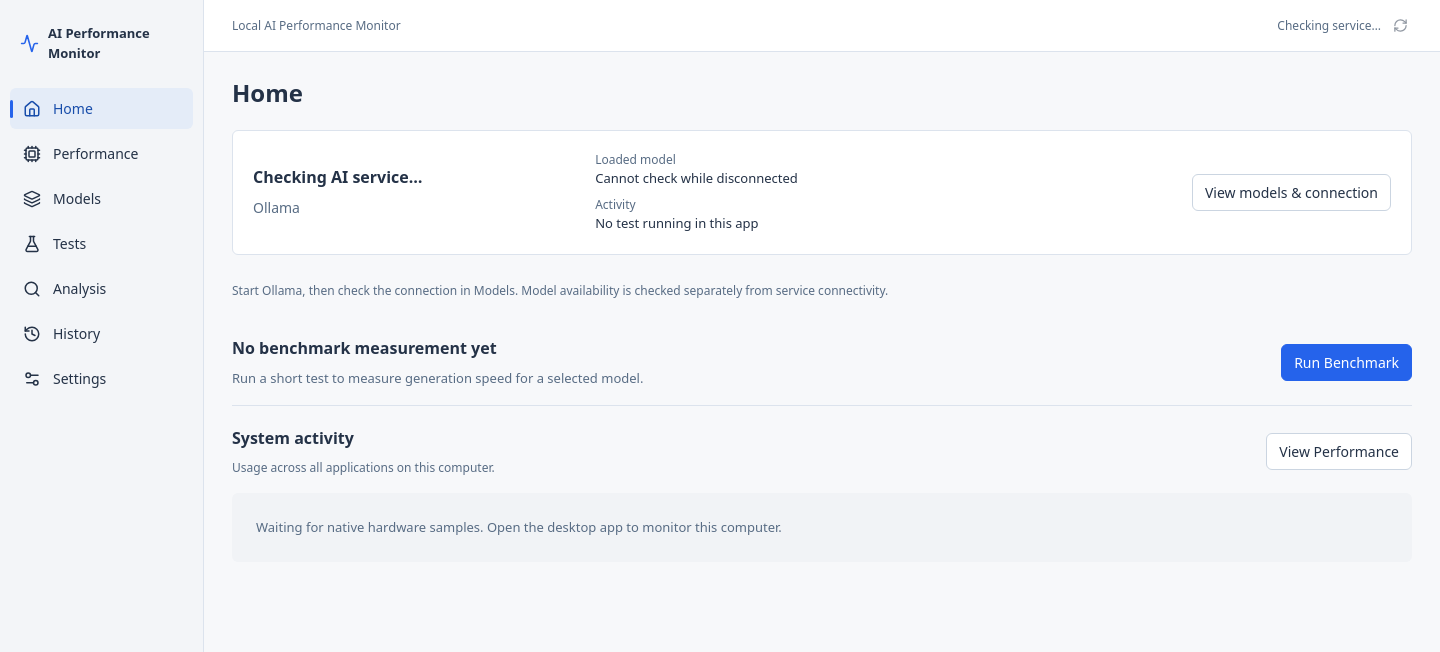
Test: preserves a running quick benchmark and typed prompt across navigation
Click the button "Tests": coordinates (102, 244) top-left (10, 223), bottom-right (193, 264)
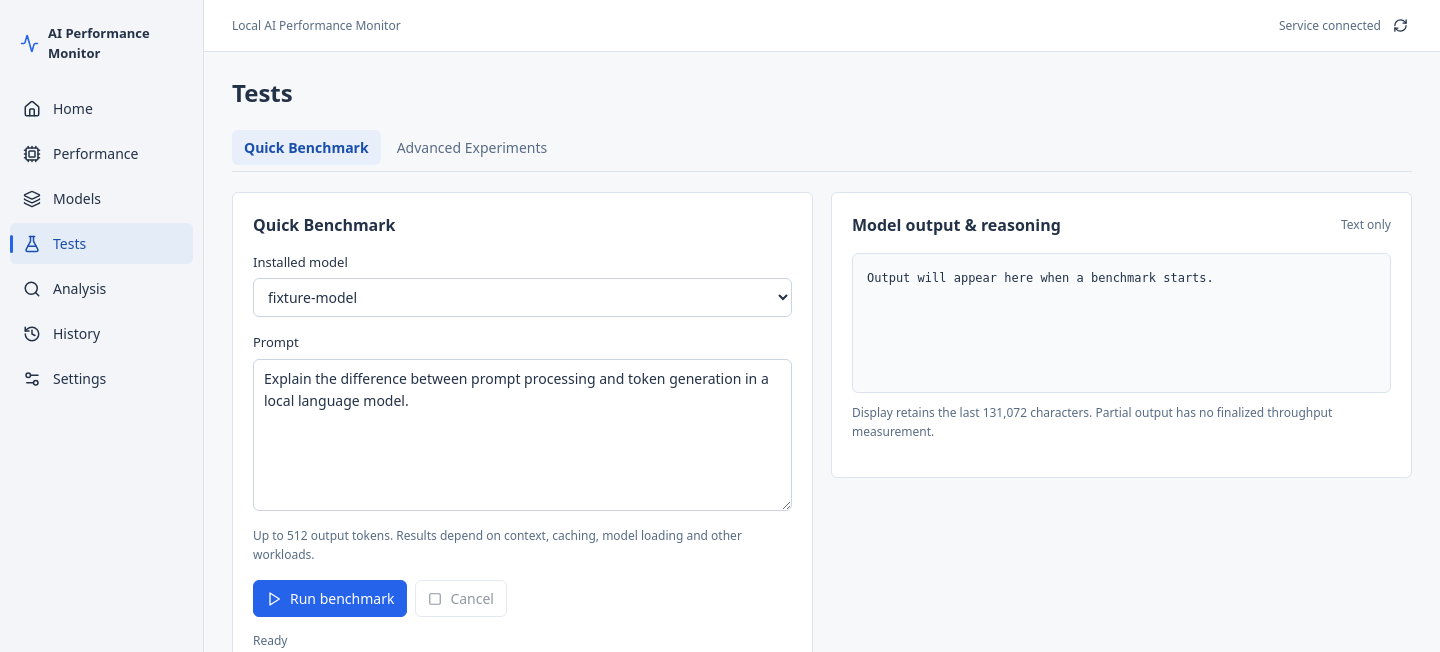
Check: the button "Run benchmark" is enabled, box top-left (253, 580), bottom-right (407, 617)
Replace the text in the text box labelled "Prompt" with "Keep this prompt": coordinates (522, 435) top-left (253, 359), bottom-right (792, 511)
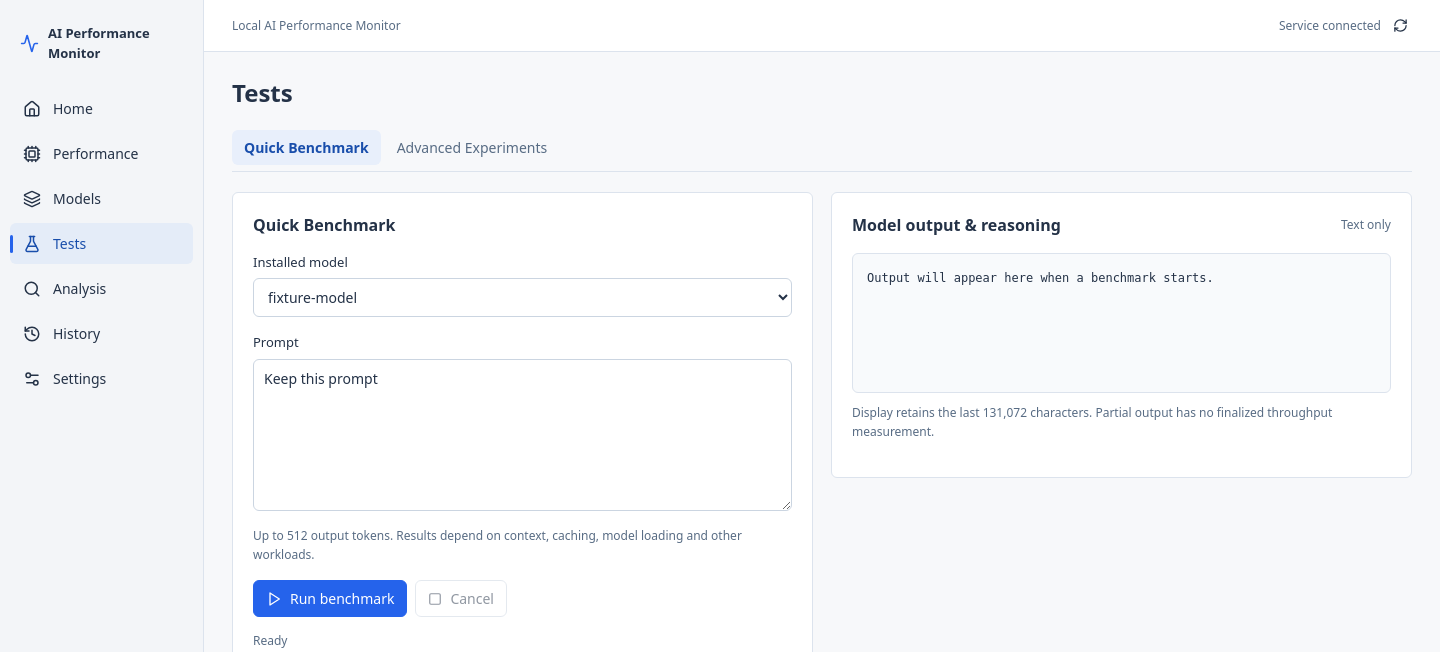
Click the button "Run benchmark": coordinates (330, 599) top-left (253, 580), bottom-right (407, 617)
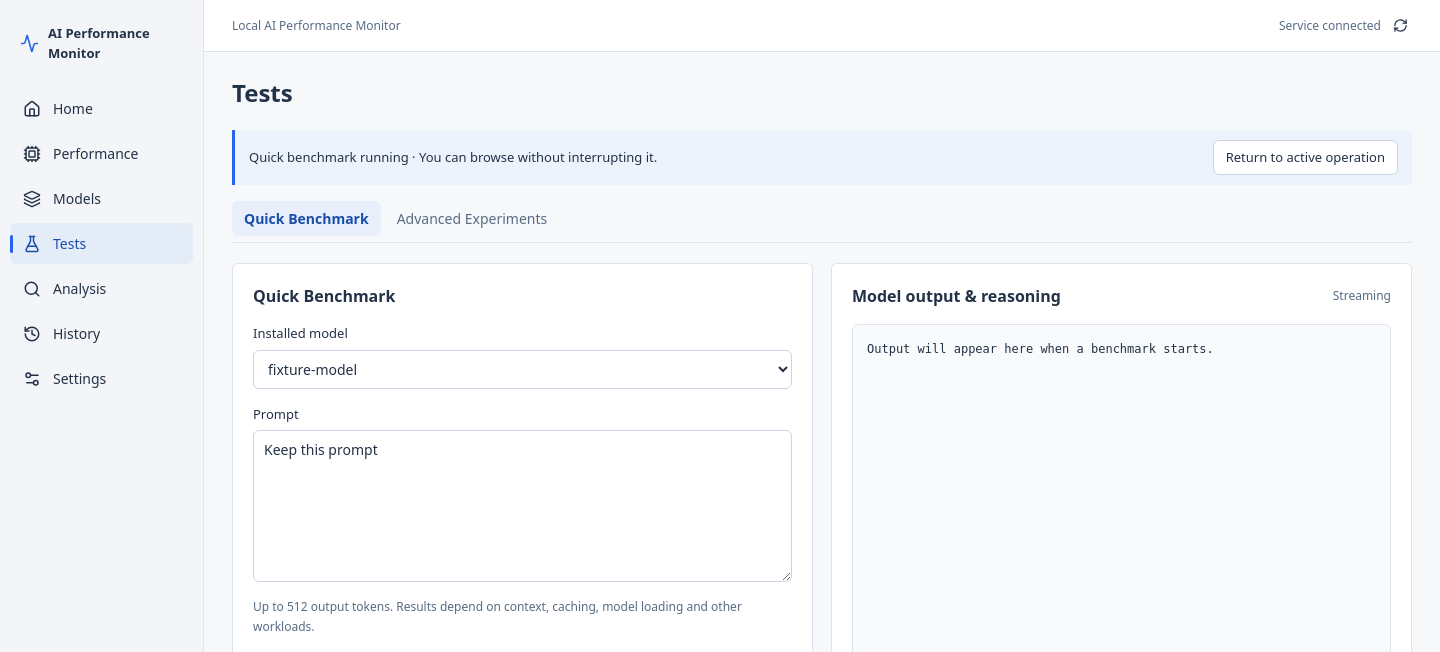
Click the button "Home": coordinates (102, 108) top-left (10, 88), bottom-right (193, 129)
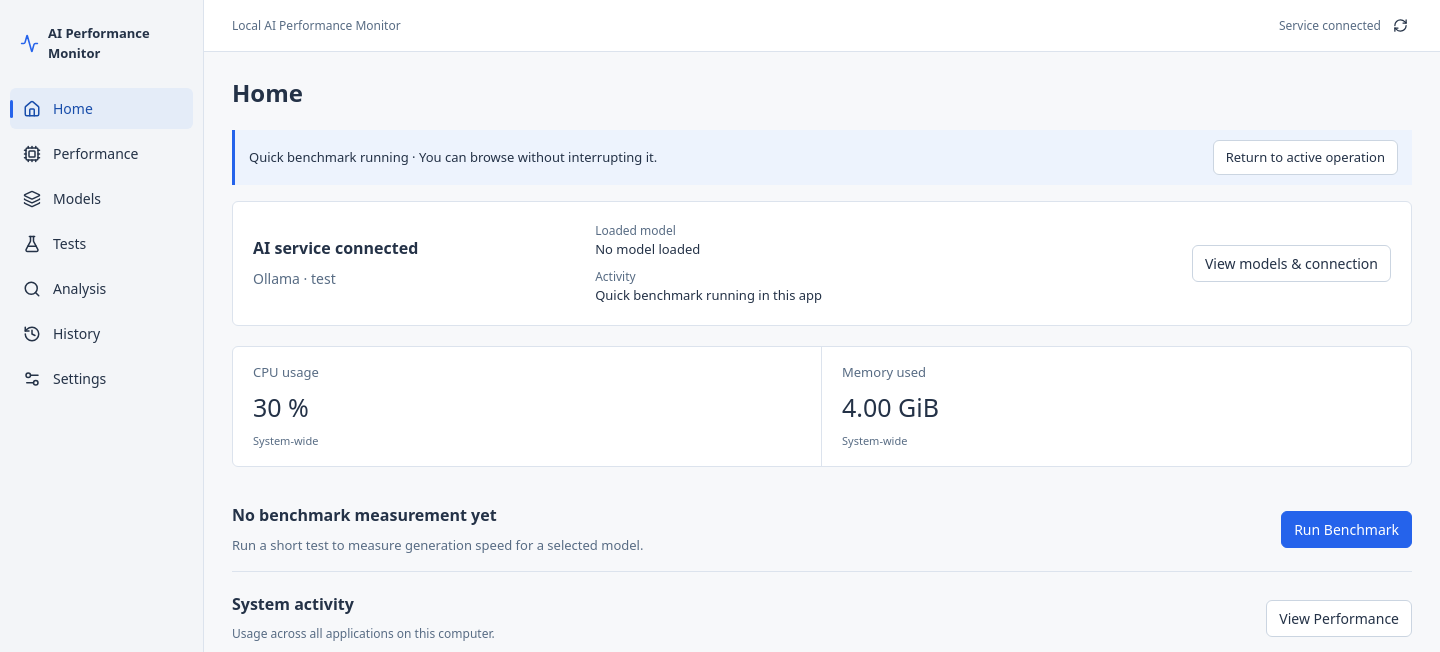
Check: the text "Quick benchmark running in this app" is shown, box top-left (595, 286), bottom-right (822, 304)
Click the button "Return to active operation": coordinates (1305, 157) top-left (1213, 140), bottom-right (1398, 175)
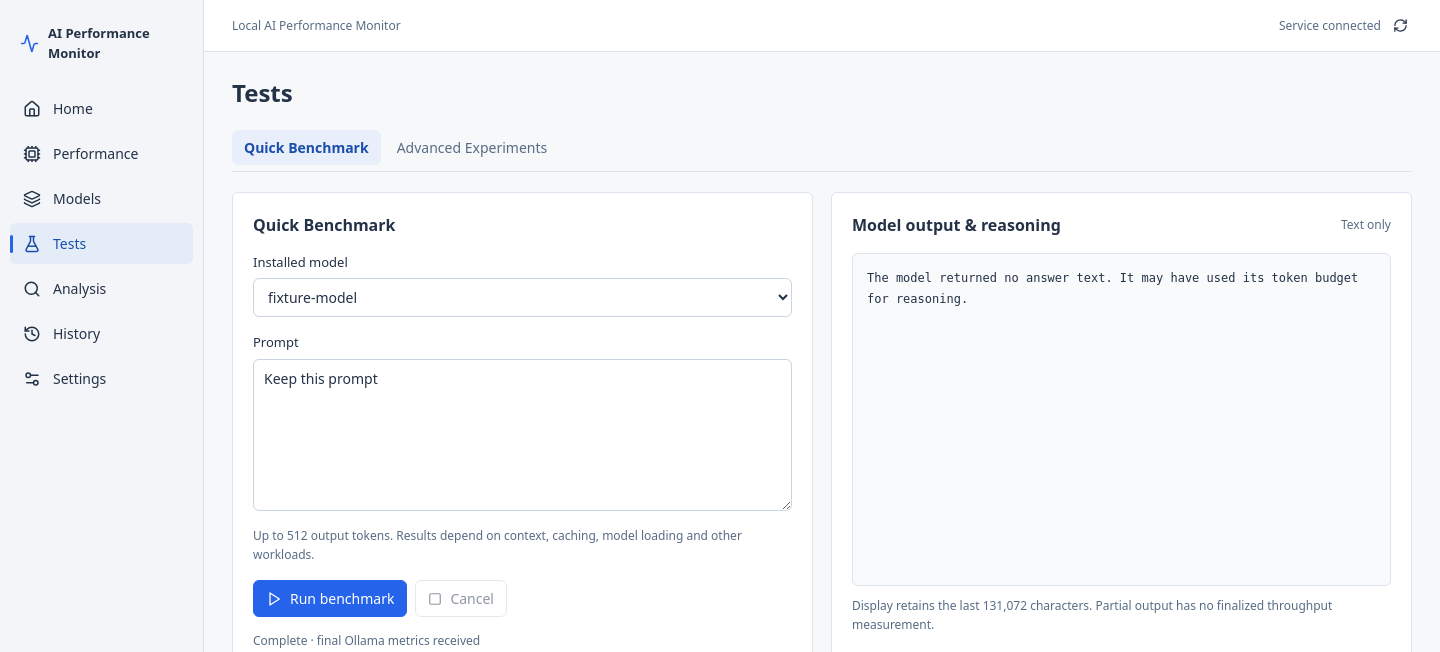
Check: the text box labelled "Prompt" holds "Keep this prompt", box top-left (253, 359), bottom-right (792, 511)
Check: the text "Complete · final Ollama metrics received" is shown, box top-left (253, 632), bottom-right (480, 649)
